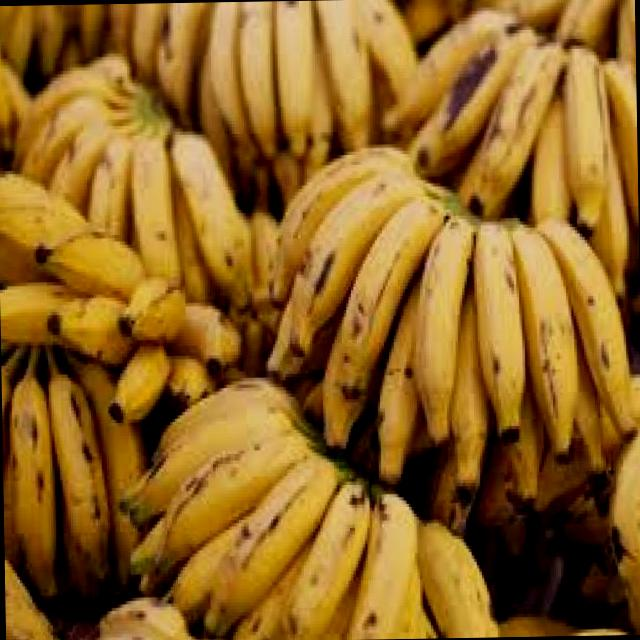Banana: (264, 136, 639, 532), (119, 369, 502, 640), (390, 8, 640, 280), (6, 52, 256, 306), (0, 338, 150, 604)
